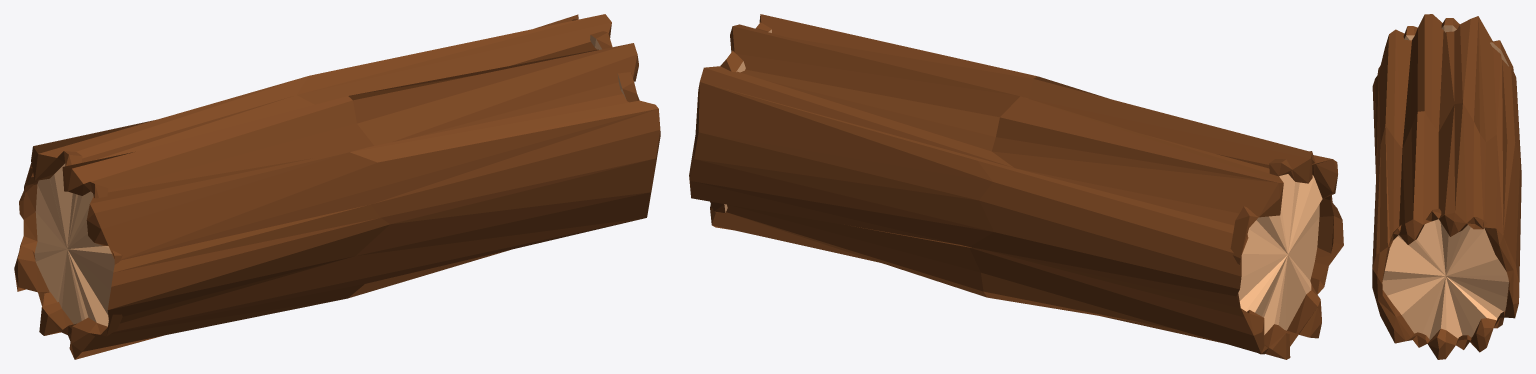
File: TreeLog.fbx
The picture shows the model from 3 angles, left to right: view 1: azimuth 30°, elevation 25°; view 2: azimuth 150°, elevation 25°; view 3: azimuth 270°, elevation 25°; orthographic projection. The views are drawn at different scales.
Visible parts, largest first — view 1: Tree trunk; view 2: Tree trunk; view 3: Tree trunk.
Boxes of the visible parts, left/top/right/bottom form: Tree trunk: left=14, top=14, right=660, bottom=359; Tree trunk: left=689, top=14, right=1343, bottom=359; Tree trunk: left=1372, top=14, right=1521, bottom=359.
Size of the model in its own units: 498 by 176 by 153.
